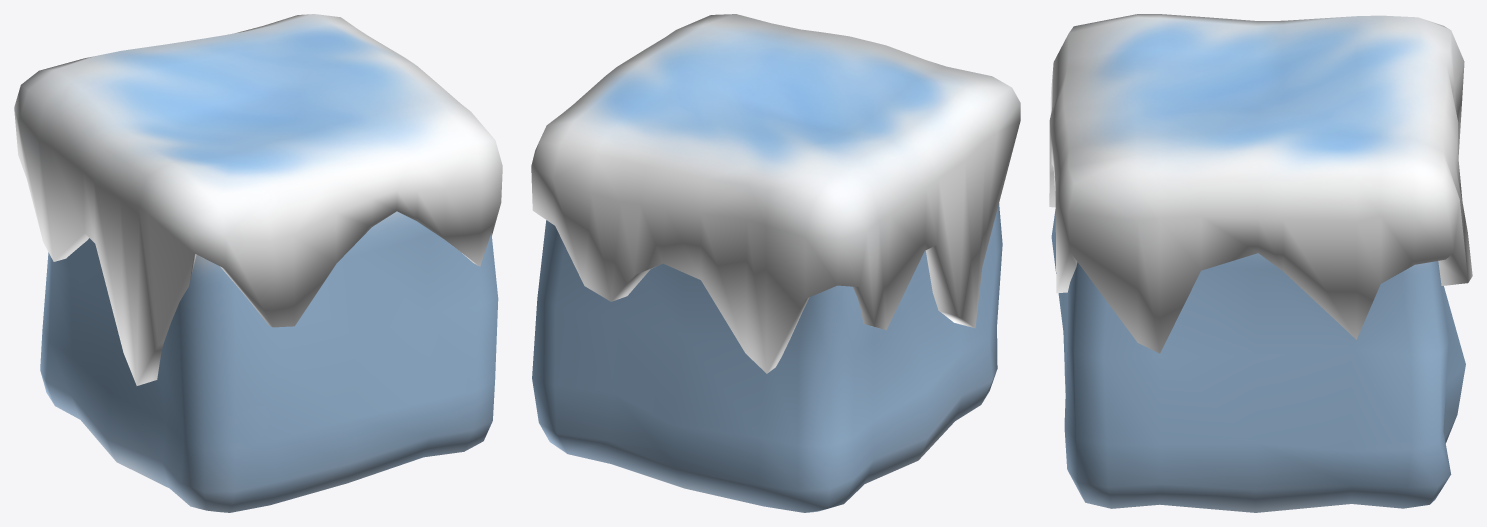
The model's file is IceBlock5.fbx.
3 views of the same model, side by side, from view 1: azimuth 30°, elevation 25°; view 2: azimuth 150°, elevation 25°; view 3: azimuth 270°, elevation 25° (orthographic). The views are drawn at different scales.
Parts seen in each view (by area): view 1: Cube.005; view 2: Cube.005; view 3: Cube.005.
Boxes of the visible parts, x1=… form: Cube.005: x1=14, y1=14, x2=502, y2=512; Cube.005: x1=531, y1=14, x2=1020, y2=512; Cube.005: x1=1049, y1=14, x2=1472, y2=512.
Size of the model in its own units: 219 by 217 by 221.
